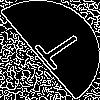T: (25, 25, 87, 77)
